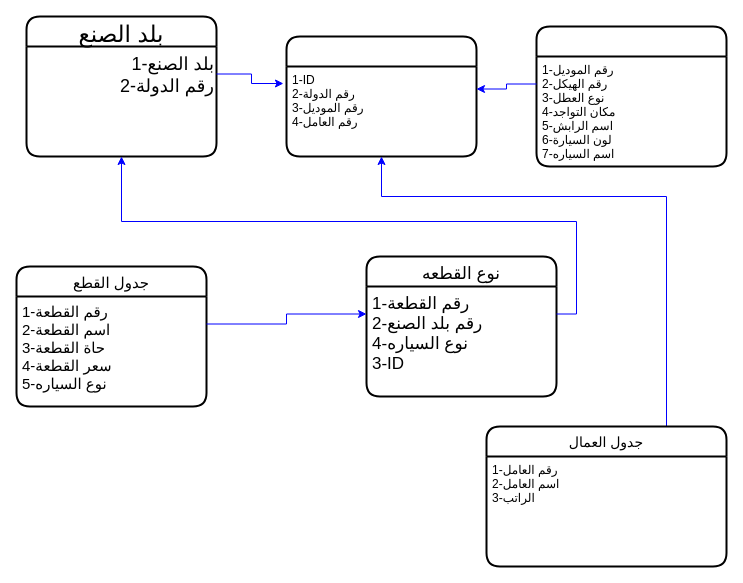
This 743x583 diagram has some shape labels left out. The box of each missing label's shape, as (x1, y1, x2, y2) in pixels:
تحديد القطعه: (285, 35, 477, 157)
نوع السيارة: (535, 25, 727, 167)
